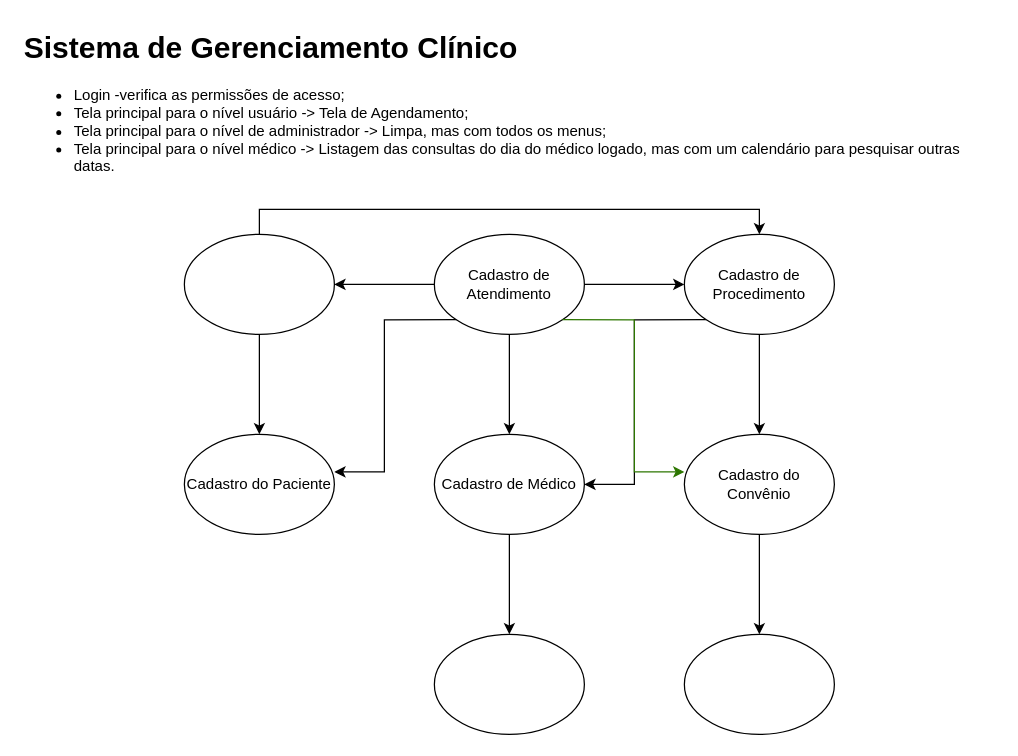
Some shapes in this 1018 by 756 pixel diagram are drawn without their labels. Each missing label, with the box of its shape:
Agendamento: (183, 233, 334, 334)
Cadastro de Especialidades: (433, 633, 584, 734)
Cadastro do Plano: (683, 633, 834, 734)
